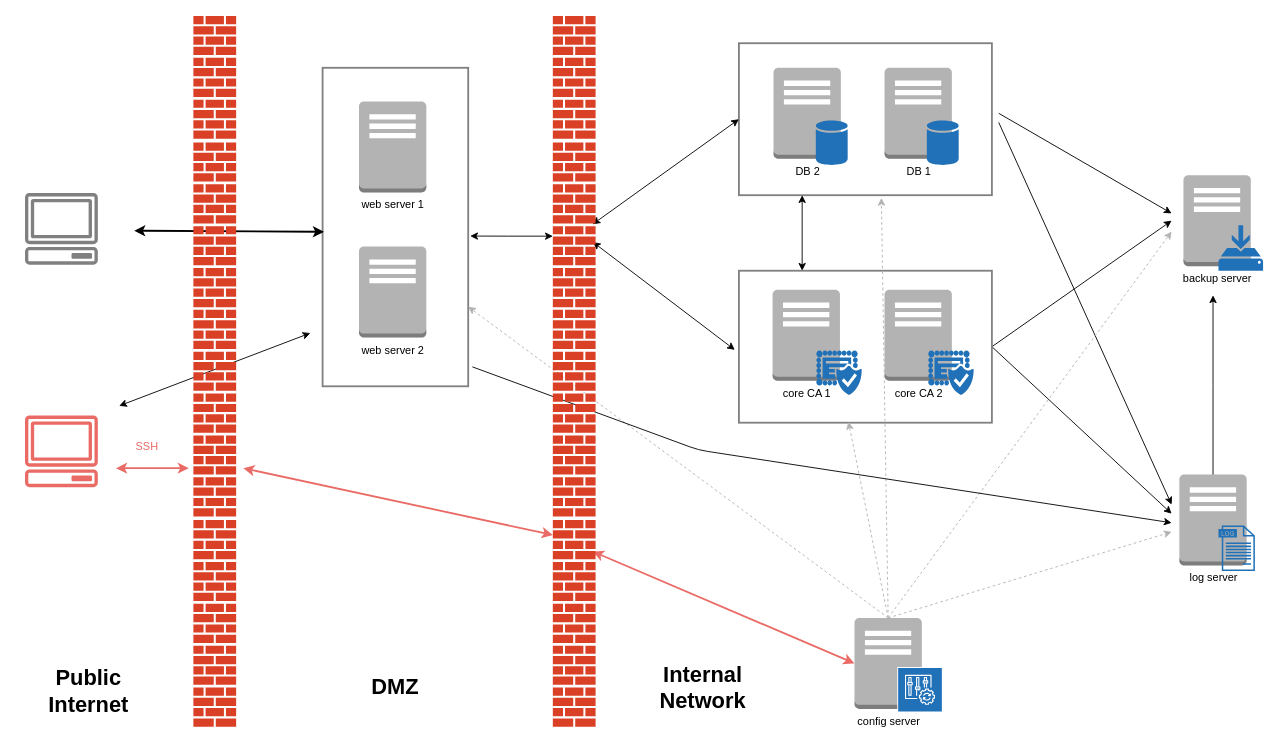
The diagram is 1279 pixels wide and 743 high, and some of its shapes have lost their labels. The shapes that lost their labels are listed below. From the top down, each one's centre as x and y in pixels, then its label:
At point 61,228: "client".
At point 61,451: "admin".
